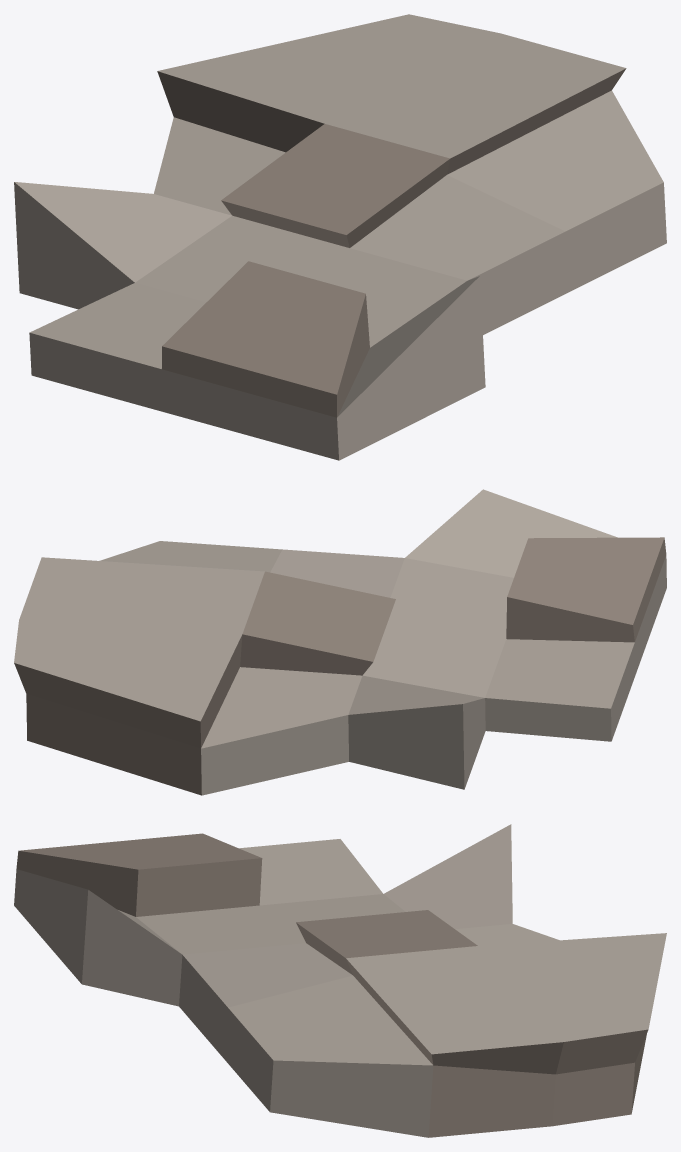
File: stone1.fbx
3 views of the same model, one above another, from view 1: azimuth 30°, elevation 25°; view 2: azimuth 150°, elevation 25°; view 3: azimuth 270°, elevation 25° (orthographic). The views are drawn at different scales.
Visible parts, largest first — view 1: pCube23; view 2: pCube23; view 3: pCube23.
Part boxes in pixels (box(x1,y1,x2,y2)): pCube23: box(14, 14, 666, 460); pCube23: box(14, 489, 666, 795); pCube23: box(14, 824, 666, 1137).
Bounding box in the file's own units: 14.96 × 3.2 × 15.1.
